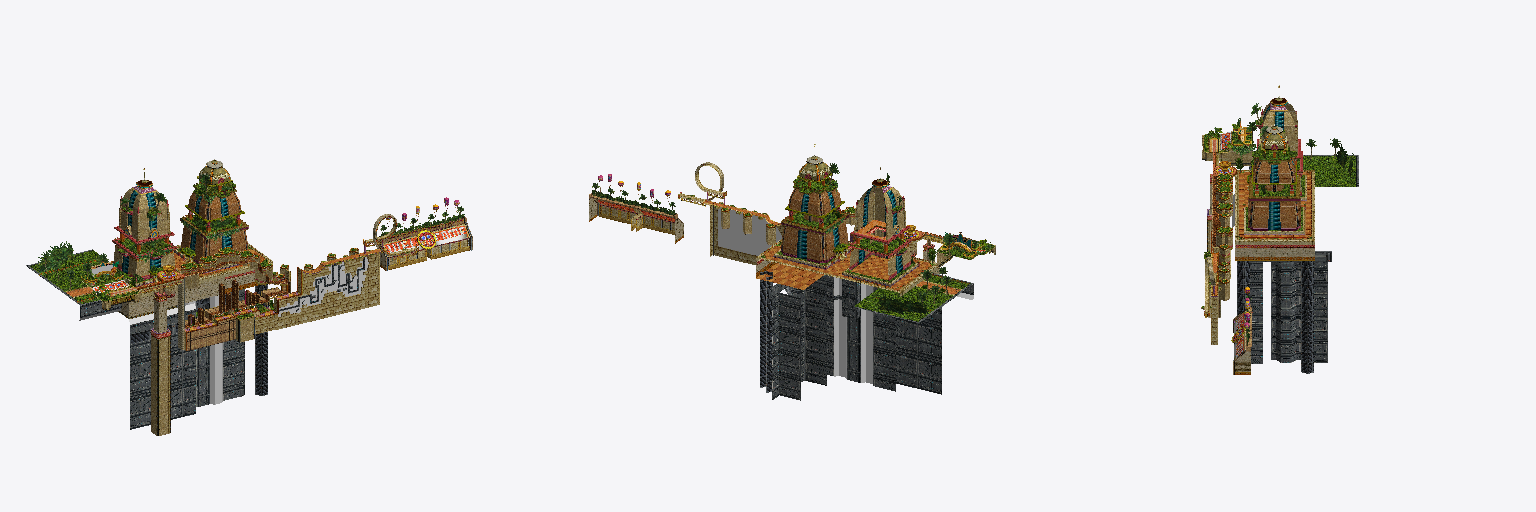
3 views of the same model, side by side, from view 1: azimuth 30°, elevation 25°; view 2: azimuth 150°, elevation 25°; view 3: azimuth 270°, elevation 25° (orthographic).
Visible parts, largest first — view 1: polygon133, polygon0, polygon125, polygon152, polygon189, polygon132, polygon58, polygon169, polygon223, polygon13, polygon131, polygon119 (+7 smaller); view 2: polygon125, polygon133, polygon190, polygon127, polygon13, polygon132, polygon58, polygon119, polygon45, polygon64, polygon71, polygon0 (+4 smaller); view 3: polygon125, polygon119, polygon58, polygon132, polygon190, polygon188, polygon64, polygon189, polygon169, polygon184, polygon71, polygon65.
Part boxes in pixels (bbox=[...]): polygon133: bbox=[130, 333, 195, 429]; polygon0: bbox=[255, 254, 377, 333]; polygon125: bbox=[196, 293, 244, 406]; polygon152: bbox=[151, 336, 170, 435]; polygon189: bbox=[121, 273, 254, 316]; polygon132: bbox=[30, 250, 107, 303]; polygon58: bbox=[181, 192, 247, 260]; polygon169: bbox=[136, 247, 386, 350]; polygon223: bbox=[187, 317, 254, 350]; polygon13: bbox=[278, 257, 368, 316]; polygon131: bbox=[26, 249, 195, 334]; polygon119: bbox=[255, 284, 267, 395]; polygon125: bbox=[772, 275, 895, 400]; polygon133: bbox=[896, 309, 941, 394]; polygon190: bbox=[756, 243, 931, 290]; polygon127: bbox=[834, 277, 872, 383]; polygon13: bbox=[718, 207, 781, 255]; polygon132: bbox=[855, 274, 970, 321]; polygon58: bbox=[781, 188, 847, 260]; polygon119: bbox=[760, 271, 772, 392]; polygon45: bbox=[860, 186, 900, 246]; polygon64: bbox=[777, 177, 849, 265]; polygon71: bbox=[781, 194, 847, 256]; polygon0: bbox=[714, 208, 783, 264]; polygon125: bbox=[1250, 262, 1327, 363]; polygon119: bbox=[1237, 261, 1313, 373]; polygon58: bbox=[1248, 158, 1300, 227]; polygon132: bbox=[1251, 156, 1355, 186]; polygon190: bbox=[1239, 172, 1311, 238]; polygon188: bbox=[1235, 170, 1314, 244]; polygon64: bbox=[1243, 147, 1305, 230]; polygon189: bbox=[1235, 245, 1314, 256]; polygon169: bbox=[1211, 152, 1236, 295]; polygon184: bbox=[1216, 182, 1232, 300]; polygon71: bbox=[1248, 159, 1300, 222]; polygon65: bbox=[1248, 156, 1300, 230].
Bounding box in the file's own units: 2939 × 1753 × 1036.
Materials: 107 (81 with a texture image).